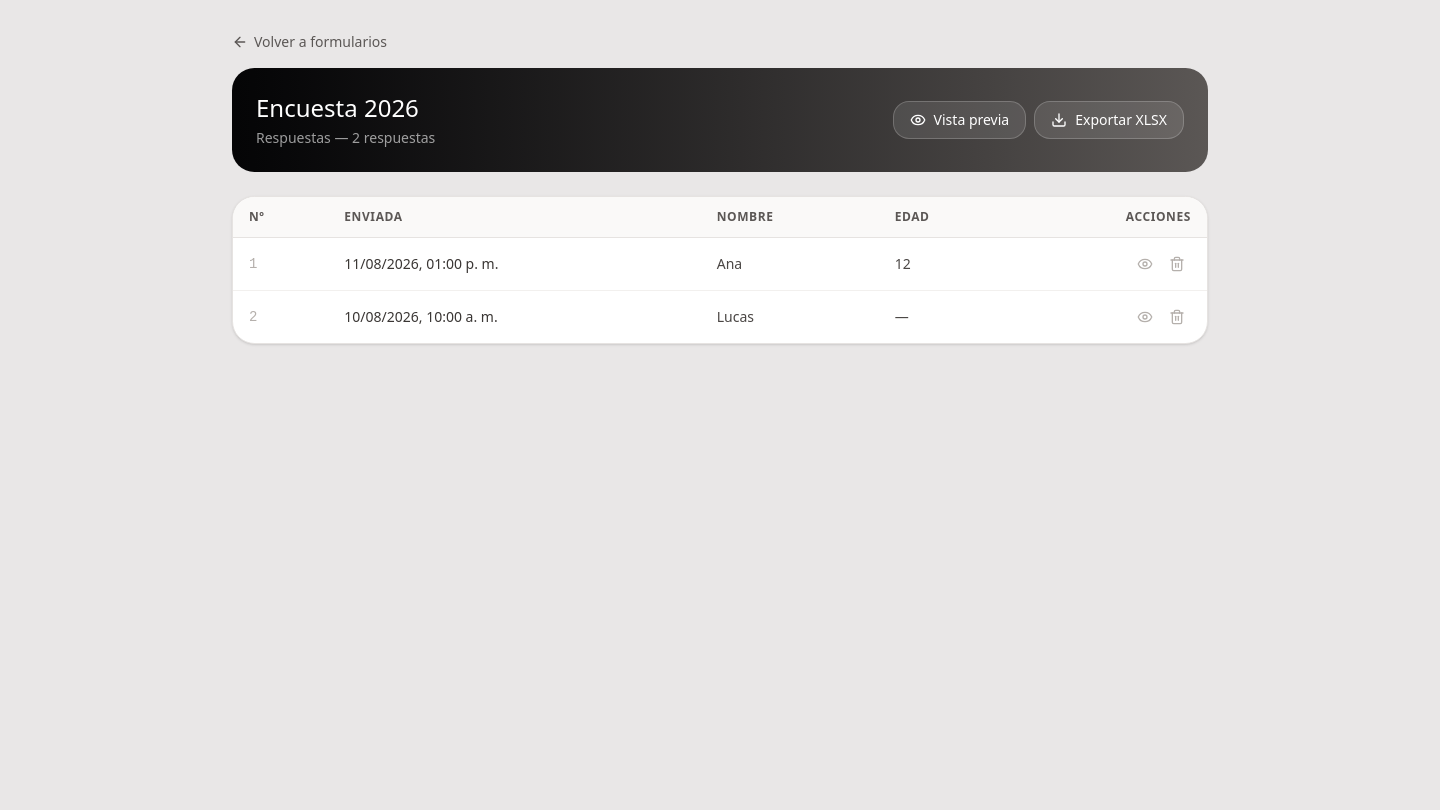
Test: RespuestasClient › opens the detail drawer with the filled-in, read-only form on "Ver detalle"
Click the button named "Ver detalle" in the row of "11/08/2026, 01:00 p. m.".
click(1145, 264)  # box x1=1131 y1=250 x2=1159 y2=278
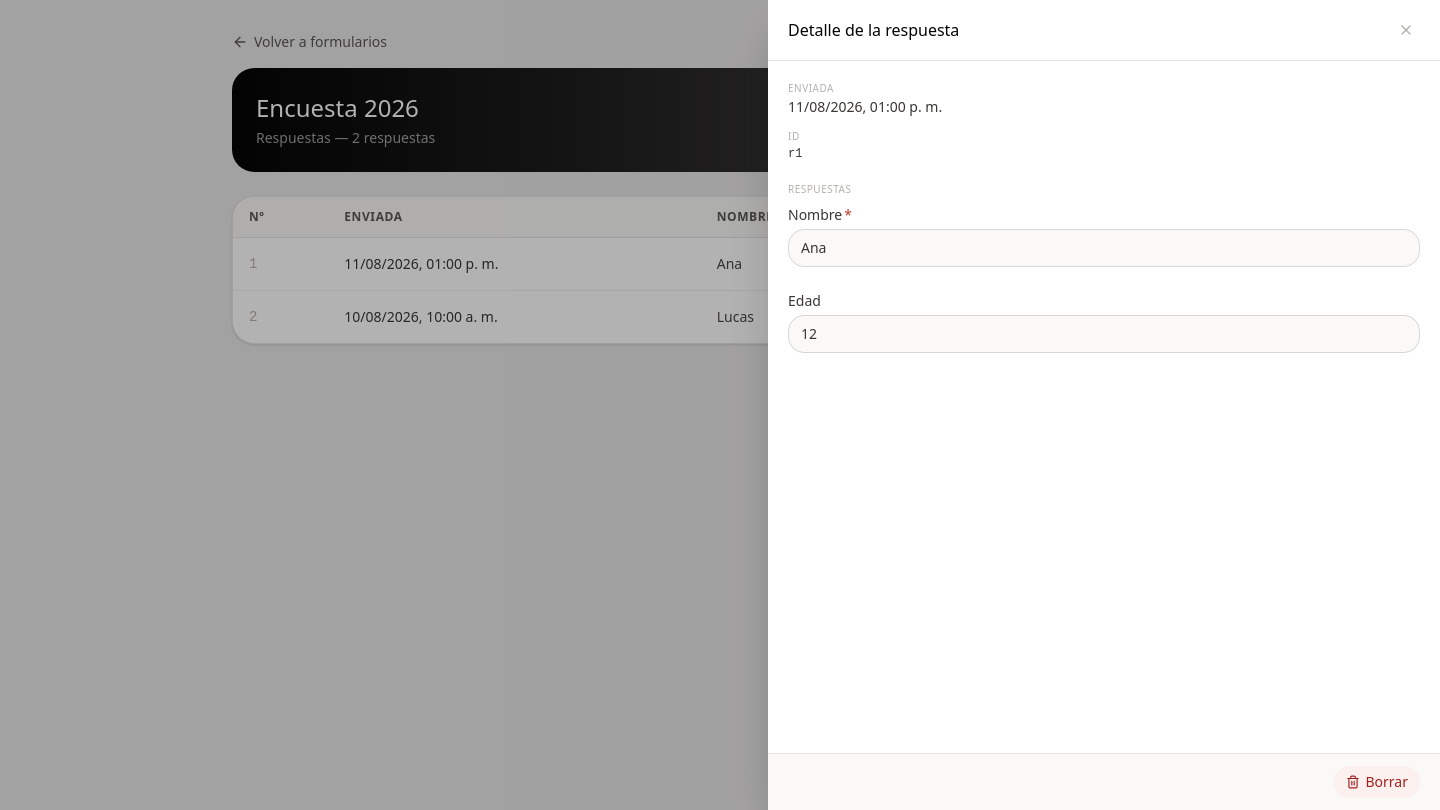
Check: the dialog "Detalle de la respuesta" is shown, box x1=768 y1=0 x2=1439 y2=809
Check: the text "Nombre" is shown, box x1=788 y1=205 x2=842 y2=224
Check: the field showing "Ana" is disabled, box x1=788 y1=229 x2=1420 y2=267
